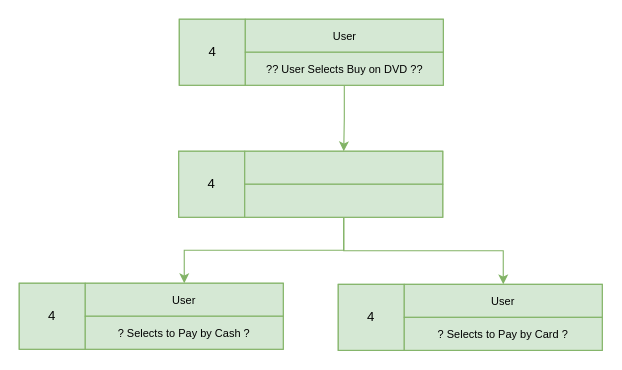
The diagram is 622 pixels wide and 370 high, and some of its shapes have lost their labels. Here are the shapes that lost their labels. From the top down, the centre of each, then its label:
the point at 343,167: Kiosk
the point at 343,200: [ Prompts User to pay ]
